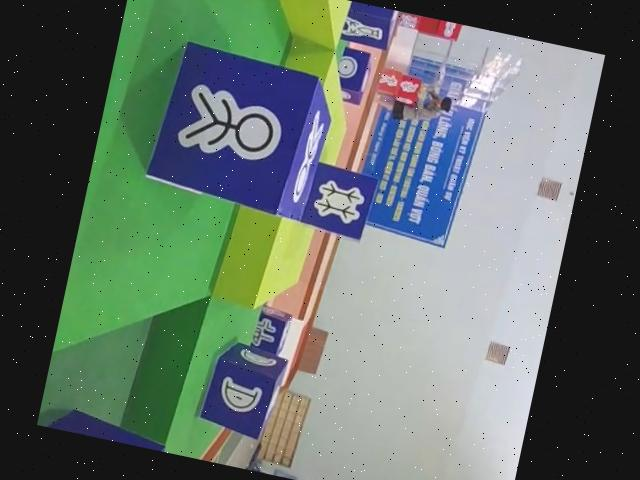R2 Real Blue: (137, 45, 341, 228), (193, 338, 289, 445), (35, 400, 167, 452), (295, 160, 378, 242), (339, 1, 400, 50), (331, 45, 375, 105), (248, 305, 292, 360)
